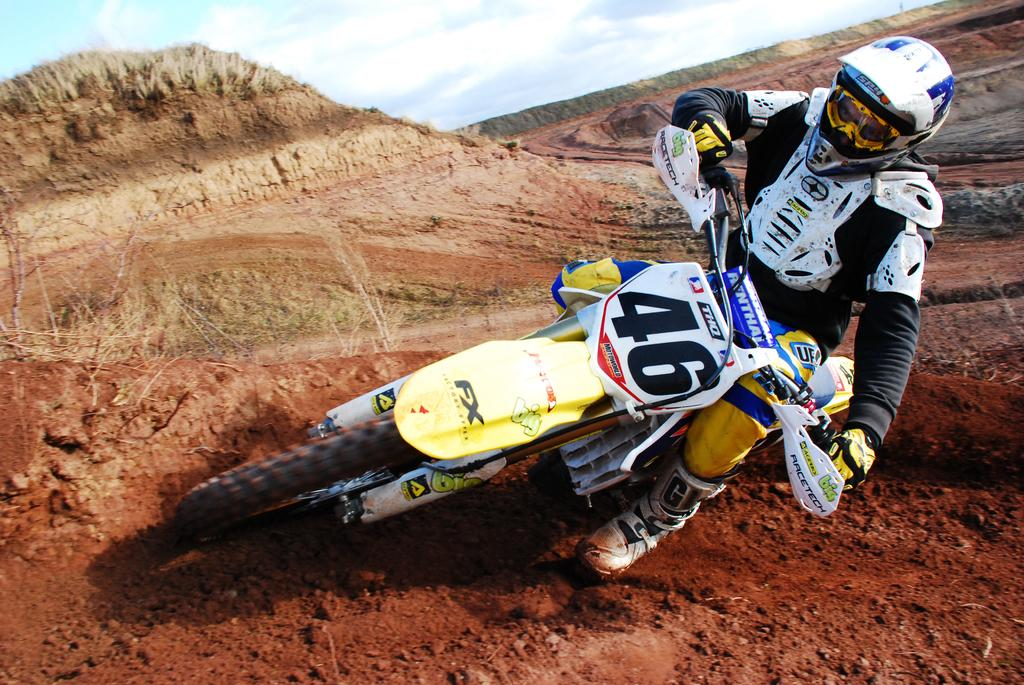helmet: (805, 36, 954, 177)
